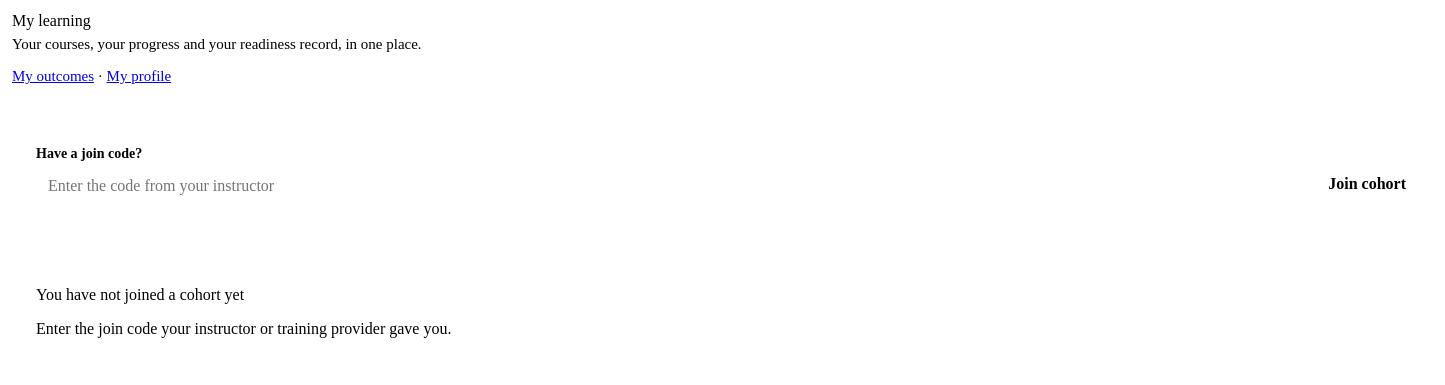
Test: learner side › shows one calm line after a request, with the contact
Type "ABC" into the field at (675, 186), box [36,168,1314,204]
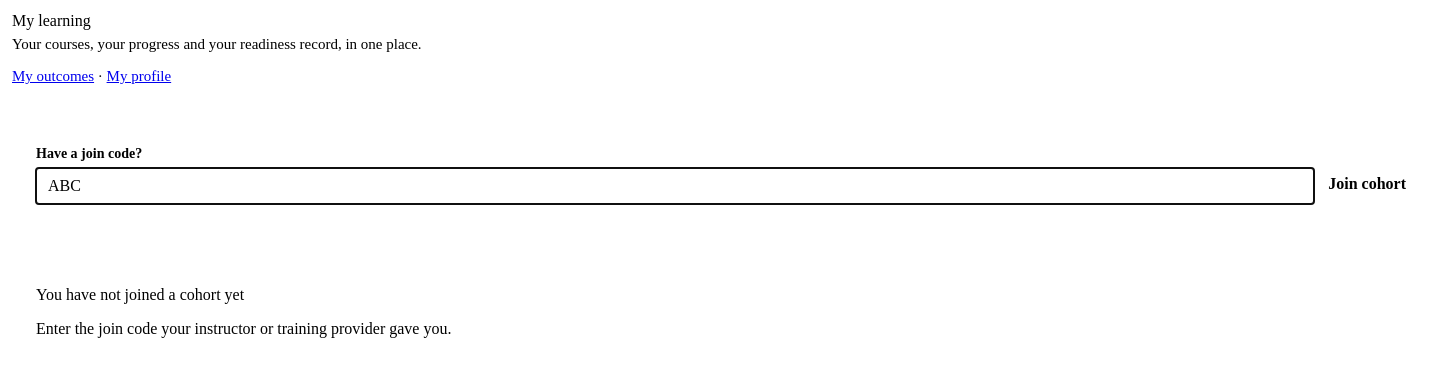
Click the button "Join cohort" at (1367, 184), box [1306,164,1428,204]
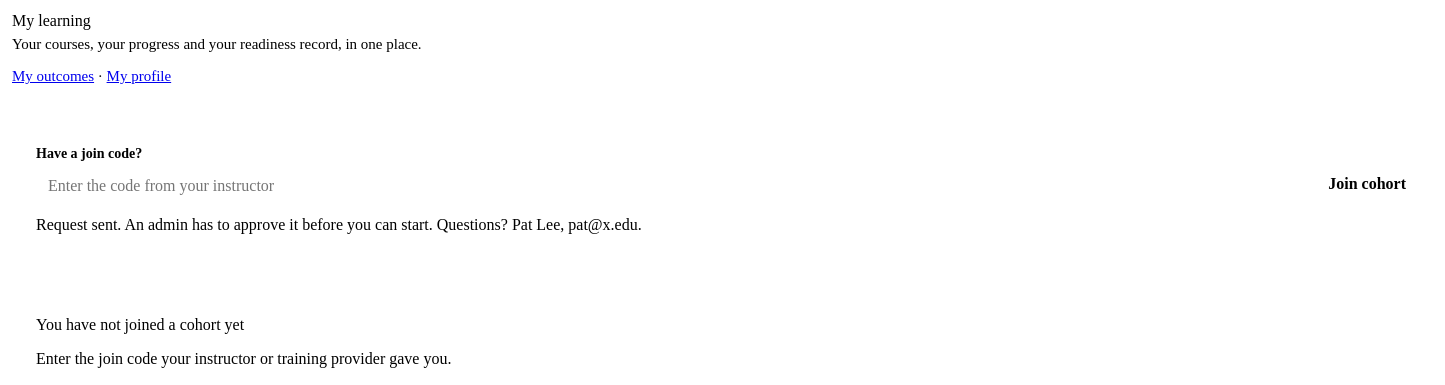
Result: the message shows "Request sent. An admin has to approve it before you can start. Questions? Pat Lee, pat@x.edu." at [36,216,642,233]
